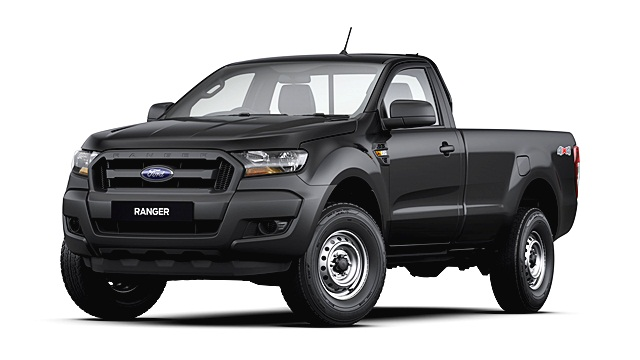pickup: (60, 52, 581, 323)
